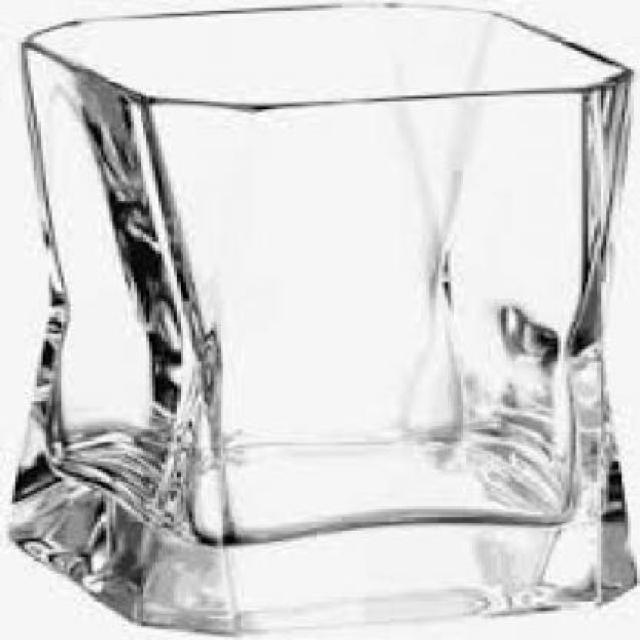kaca: (9, 0, 636, 632)
